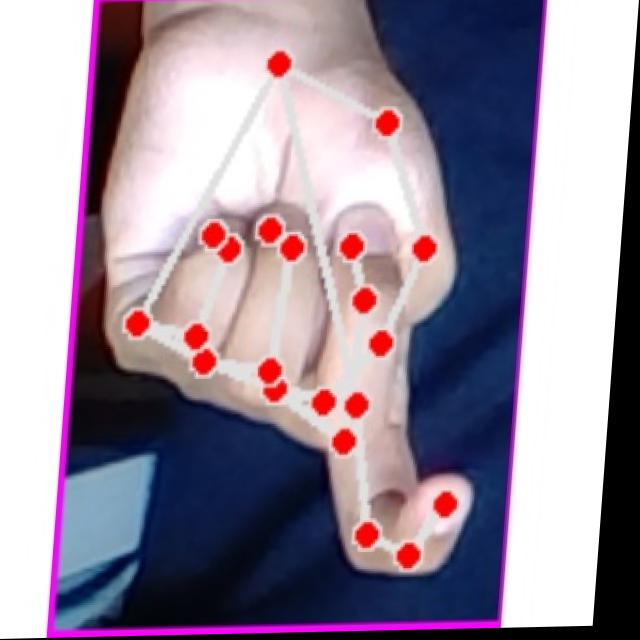Z: (89, 29, 516, 595)
